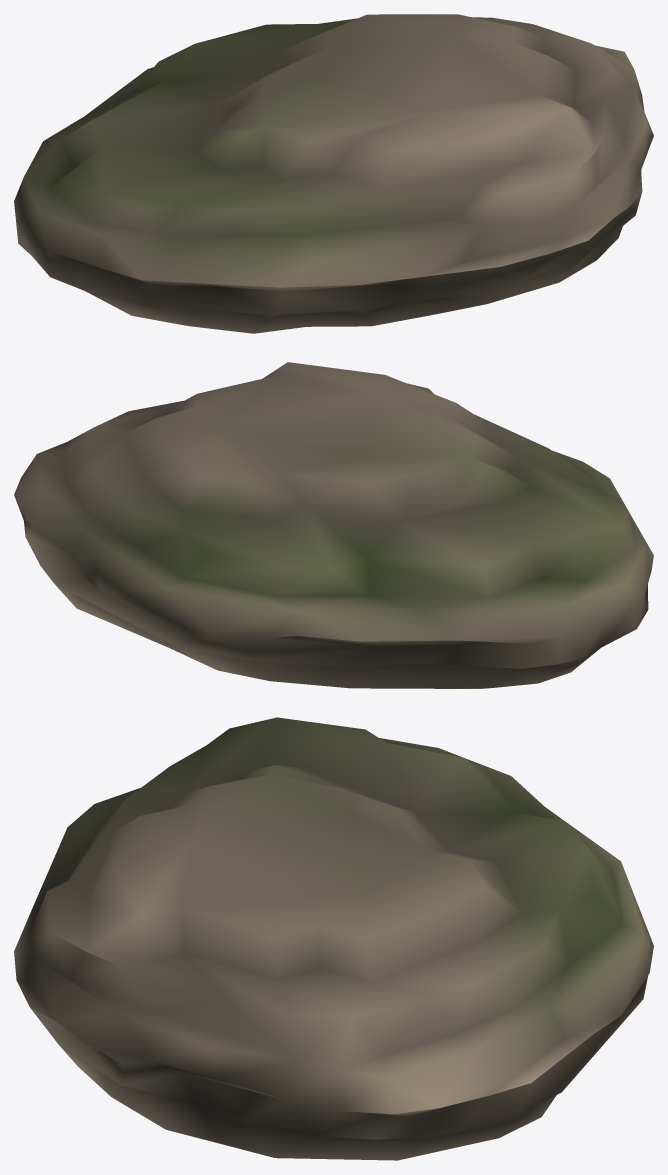
Rendered from boulder_slab.glb.
3 renders of one model, top to bottom at view 1: azimuth 30°, elevation 25°; view 2: azimuth 150°, elevation 25°; view 3: azimuth 270°, elevation 25°, orthographic. The views are drawn at different scales.
Visible parts, largest first — view 1: boulder_slab; view 2: boulder_slab; view 3: boulder_slab.
Part boxes in pixels (x1,y1,x2,y2): boulder_slab: (14,14,653,333); boulder_slab: (14,362,653,688); boulder_slab: (14,717,653,1160).
Bounding box in the file's own units: 1.46 × 0.3855 × 1.11.
